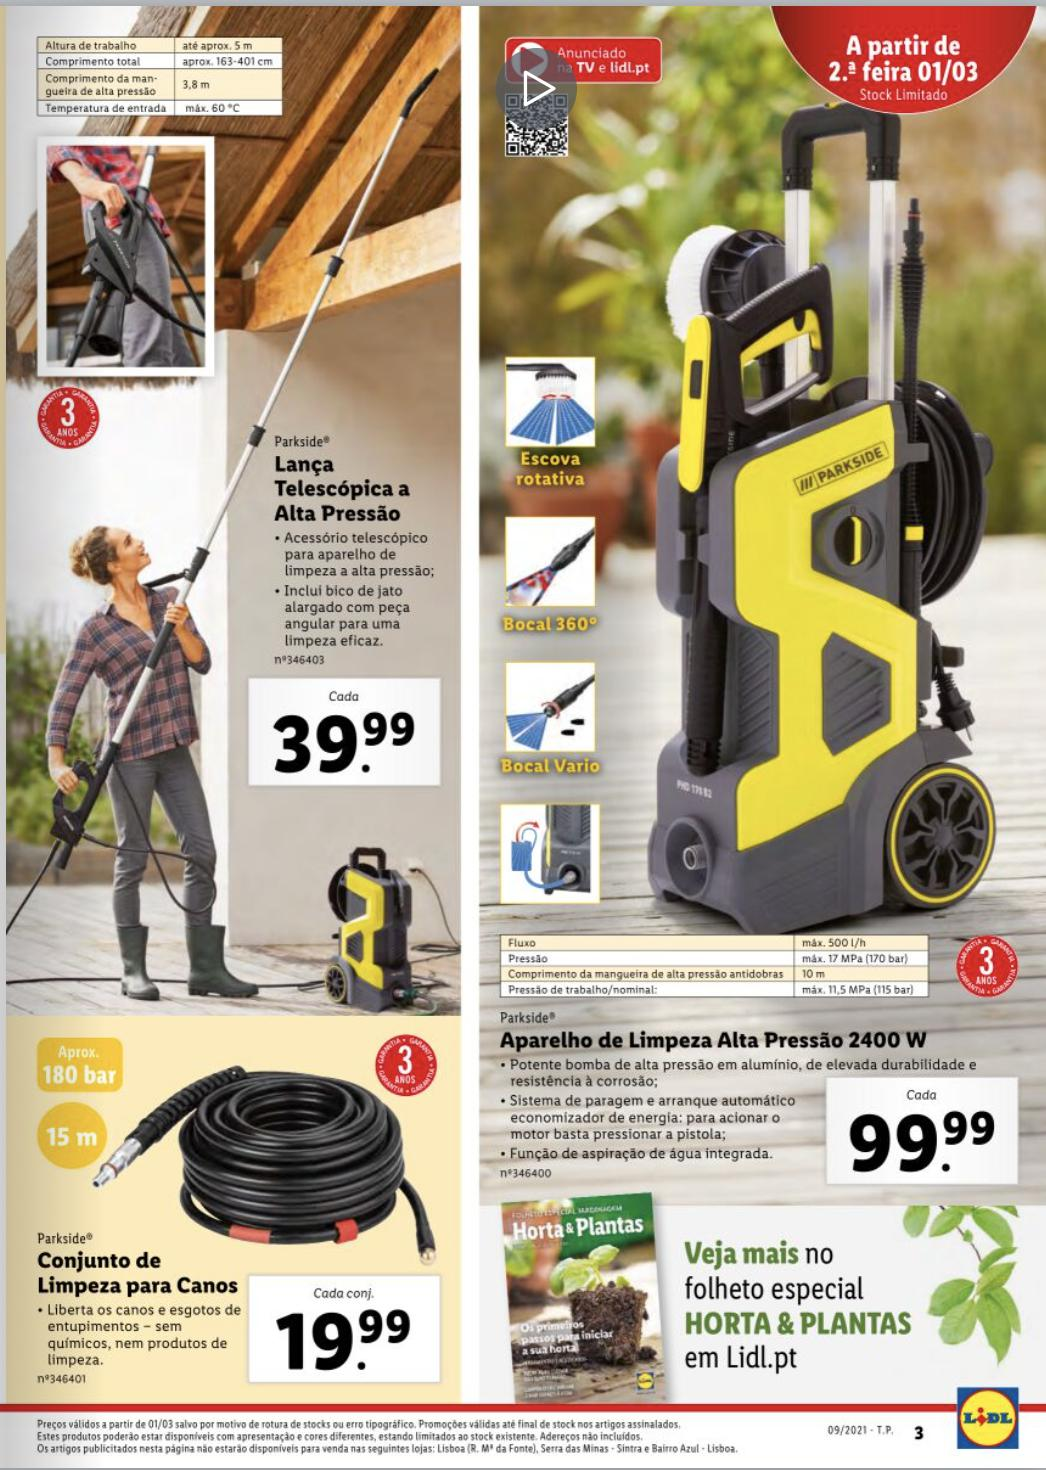name: (488, 1023, 937, 1056), (261, 456, 428, 530), (32, 1249, 245, 1298)
price: (248, 699, 441, 785), (832, 1097, 1008, 1183), (259, 1301, 432, 1381)
product: (473, 1, 1043, 1194), (10, 16, 453, 1007), (8, 1023, 452, 1398)
